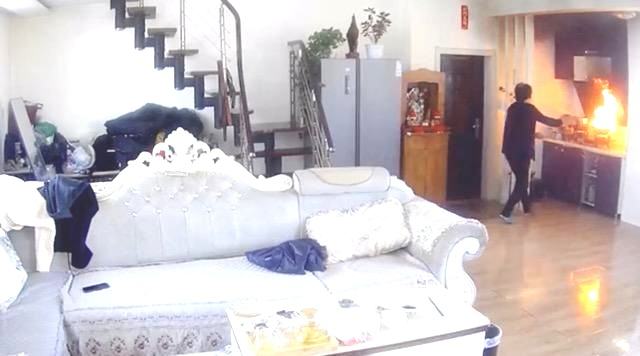fire: (582, 74, 626, 142)
